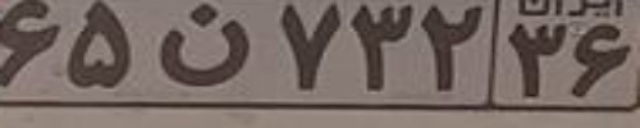2: (418, 4, 481, 93)
3: (347, 3, 413, 93), (506, 22, 564, 97)
5: (65, 0, 132, 90)
6: (1, 0, 60, 89), (572, 24, 630, 98)
7: (279, 2, 339, 90)
non: (160, 1, 253, 90)
